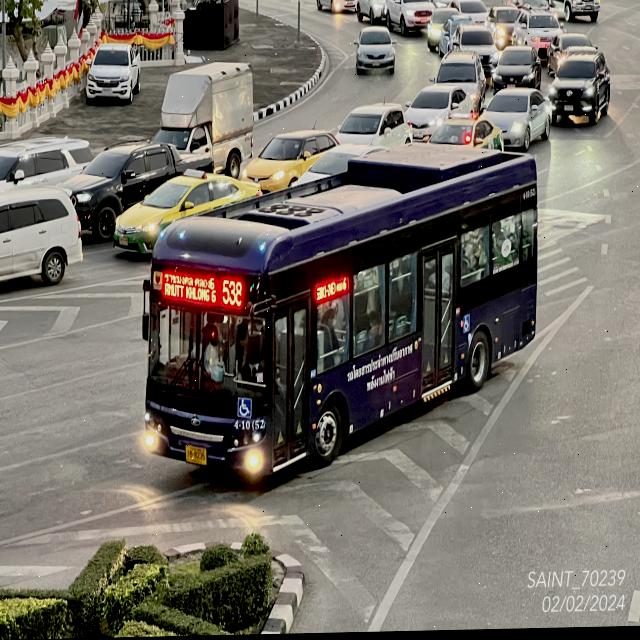Bus-Line-Number: (220, 275, 248, 308)
Destination-Sign-Normal: (163, 268, 218, 312)
TSB-Bus: (140, 148, 540, 488)
